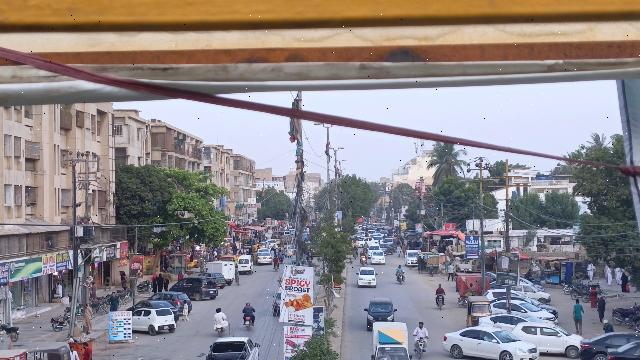Bike: (412, 335, 430, 358), (433, 294, 448, 310), (241, 315, 255, 332), (214, 323, 225, 337), (396, 272, 406, 286)
Car: (439, 326, 541, 360), (512, 321, 584, 357), (579, 330, 640, 360), (131, 308, 179, 336), (206, 337, 261, 360), (172, 275, 219, 300), (364, 298, 399, 327), (356, 266, 378, 287)
Person: (570, 298, 585, 334), (81, 300, 94, 334), (593, 294, 608, 322), (412, 319, 430, 340), (239, 300, 257, 318), (213, 308, 226, 325), (150, 271, 159, 295), (434, 283, 447, 296), (156, 272, 164, 291), (163, 274, 170, 293), (395, 263, 406, 275)
Rickshaw: (464, 294, 491, 328)
Truck: (369, 320, 413, 360), (204, 260, 236, 285)
